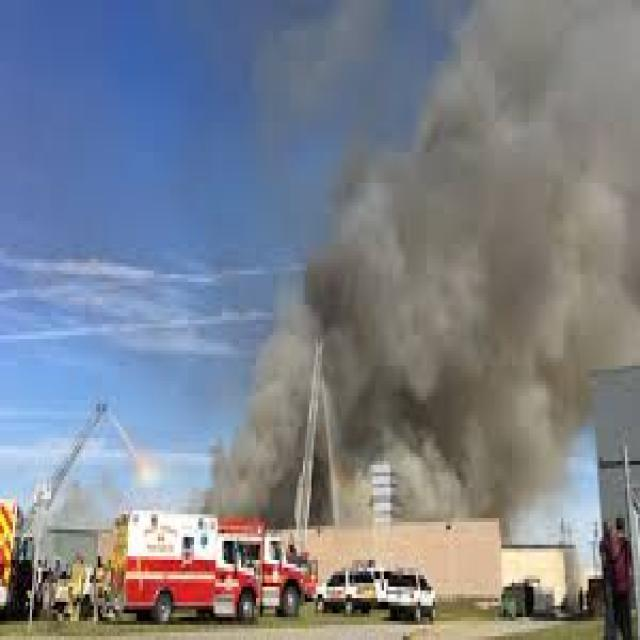Smoke: (185, 0, 638, 549)
